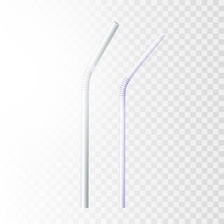drinking_straw: (113, 30, 170, 211), (74, 17, 122, 211)
